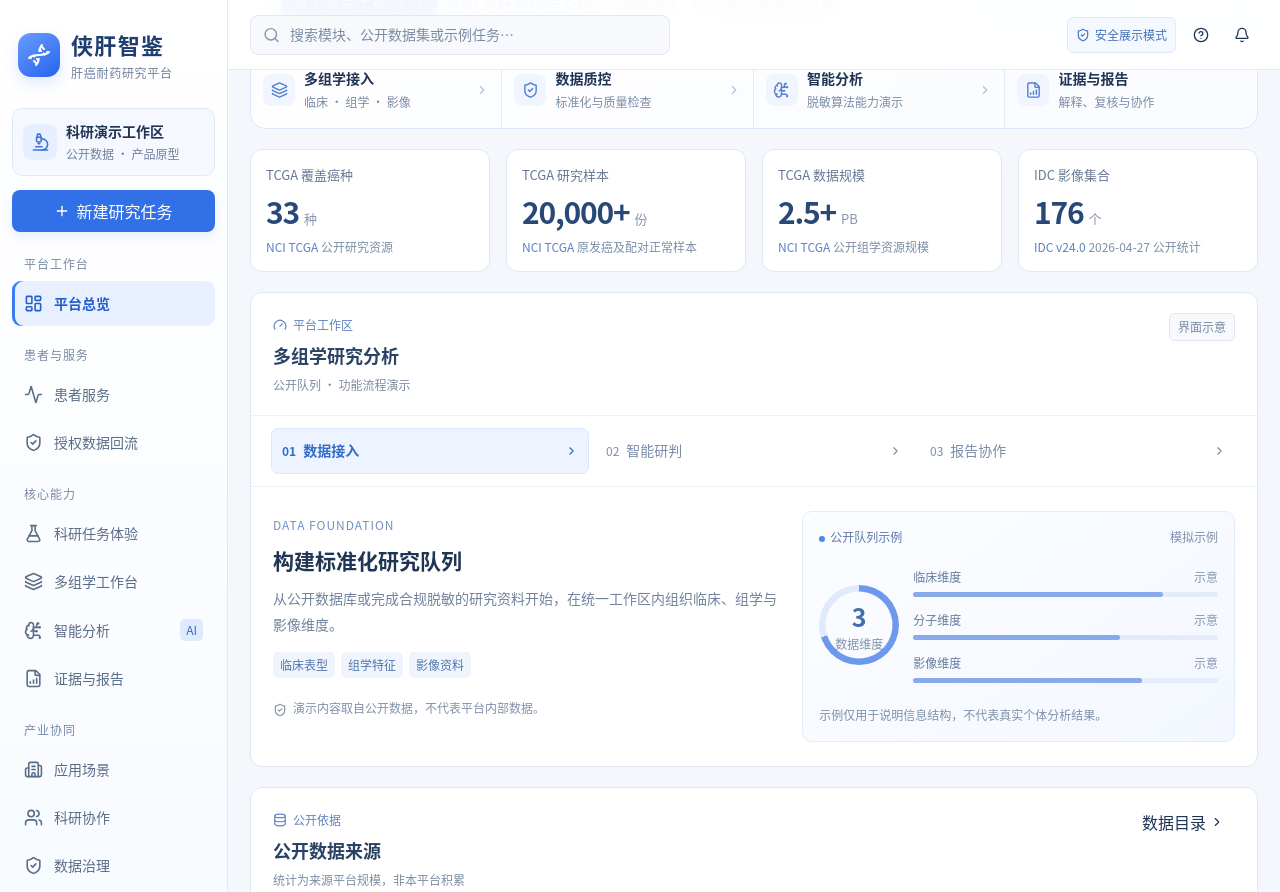
it: 侠肝智鉴产业展示工作台 › 可以切换研究工作台的能力视图
(page scrolled)
Click the button "02 智能研判" at [654, 450], box [595,428,913,474]
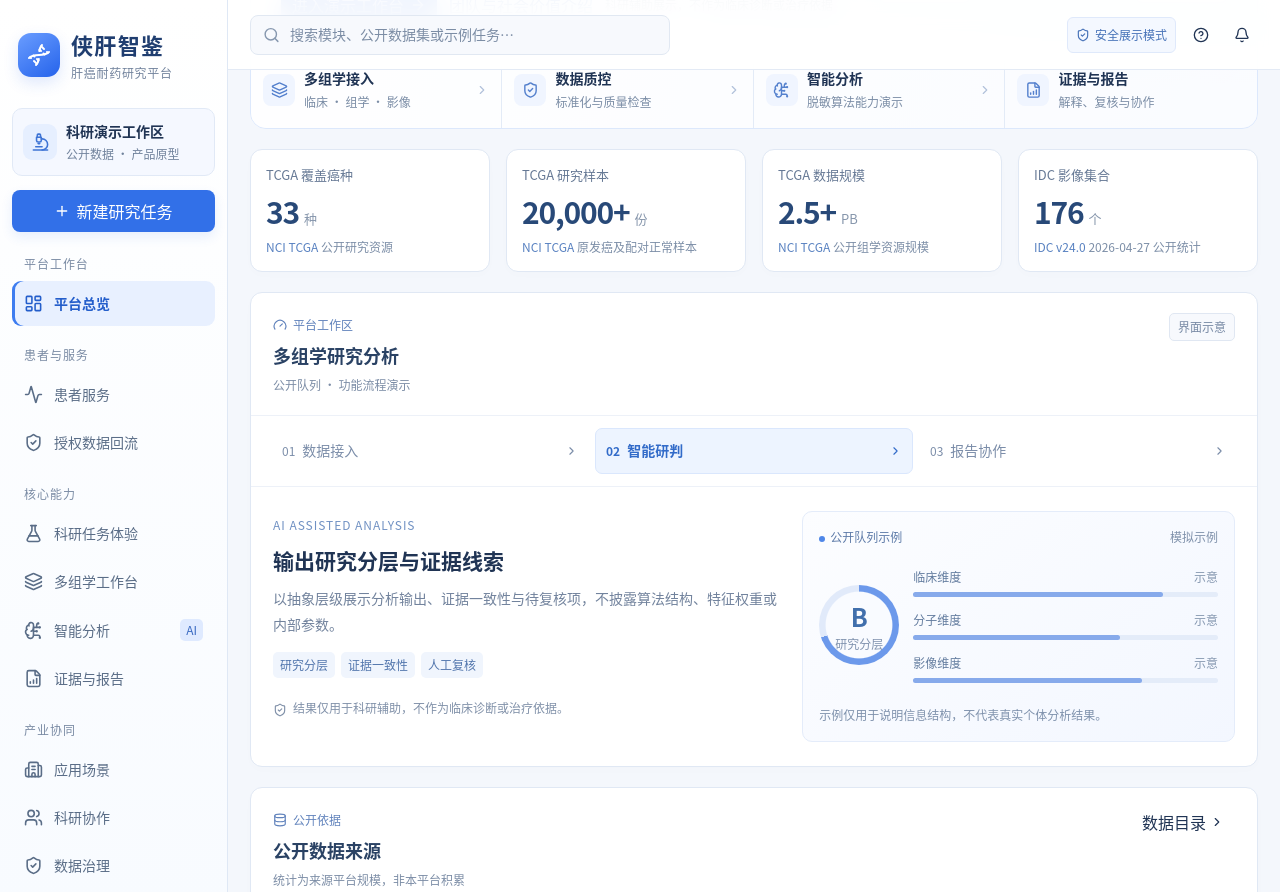
Expected: the element named "研究分析工作台" shows "输出研究分层与证据线索", [273,545,504,575]
